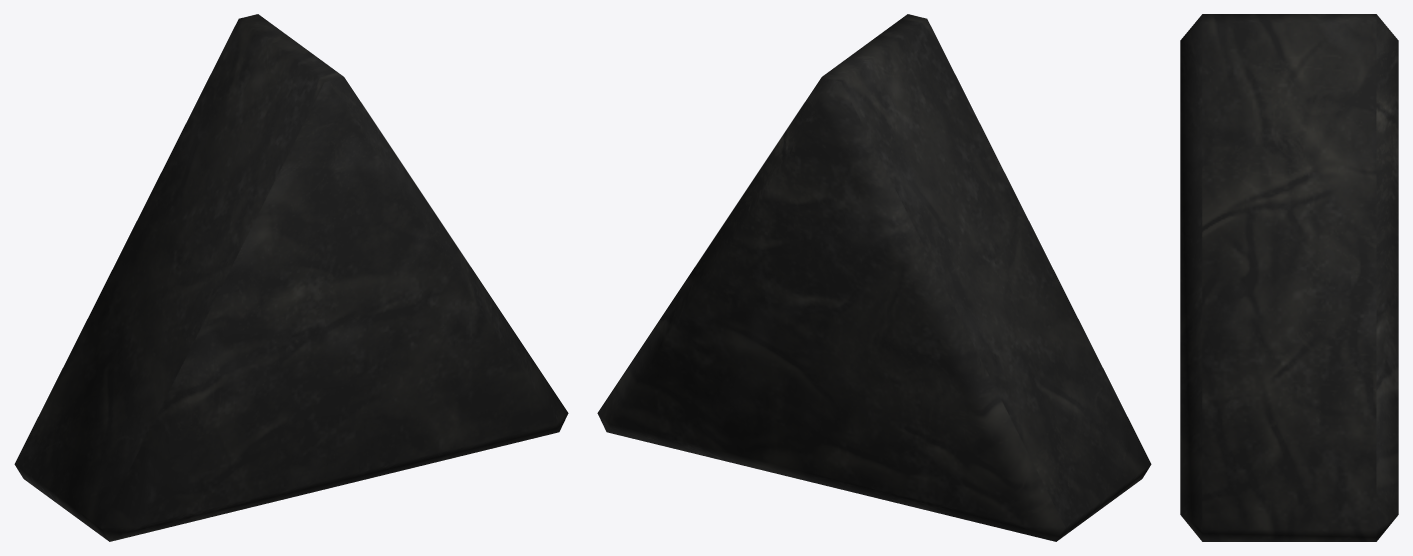
Rendered from onigiri_1.fbx.
3 renders of one model, left to right at view 1: azimuth 30°, elevation 25°; view 2: azimuth 150°, elevation 25°; view 3: azimuth 270°, elevation 25°, orthographic.
Visible parts, largest first — view 1: Cube.001; view 2: Cube.001; view 3: Cube.001.
Part boxes in pixels (x1,y1,x2,y2): Cube.001: (14, 14, 568, 541); Cube.001: (597, 14, 1151, 541); Cube.001: (1180, 14, 1398, 541).
Bounding box in the file's own units: 10.27 × 8.55 × 4.1.
